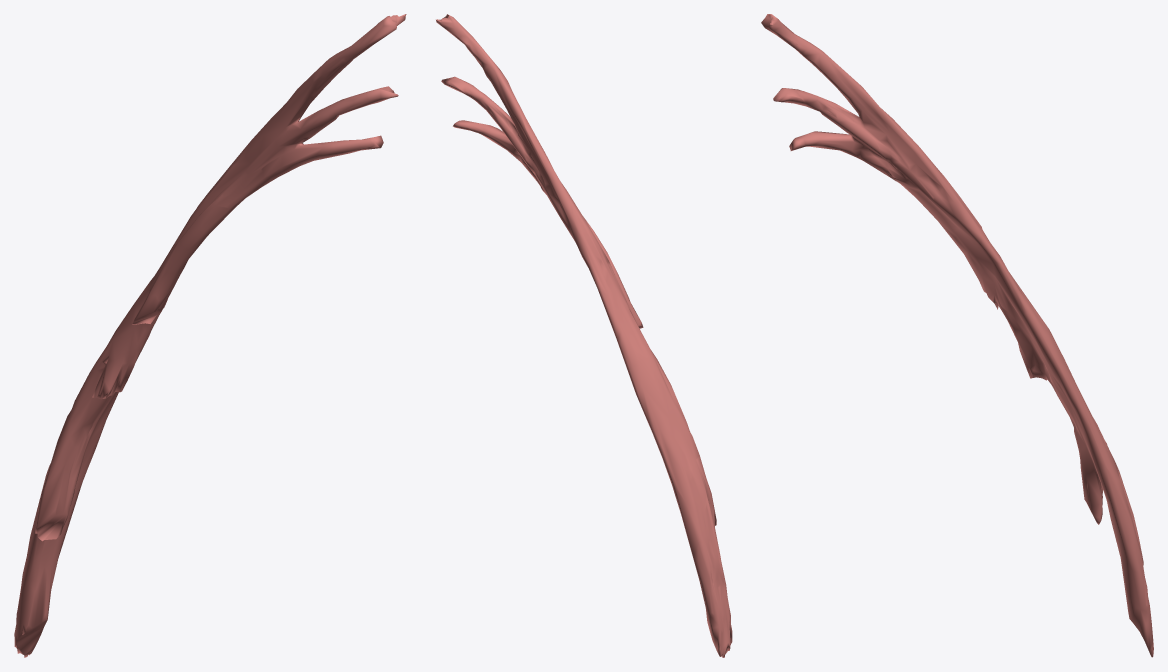
3 views of the same model, side by side, from view 1: azimuth 30°, elevation 25°; view 2: azimuth 210°, elevation 25°; view 3: azimuth 270°, elevation 25° (orthographic). The views are drawn at different scales.
Parts seen in each view (by area): view 1: ZA_07e8fccea637a8f9; view 2: ZA_07e8fccea637a8f9; view 3: ZA_07e8fccea637a8f9.
Part boxes in pixels (<box>): ZA_07e8fccea637a8f9: <box>14,14,406,657</box>; ZA_07e8fccea637a8f9: <box>436,14,732,657</box>; ZA_07e8fccea637a8f9: <box>761,14,1153,657</box>.
Size of the model in its own units: 0.0504 by 0.1764 by 0.0869.
